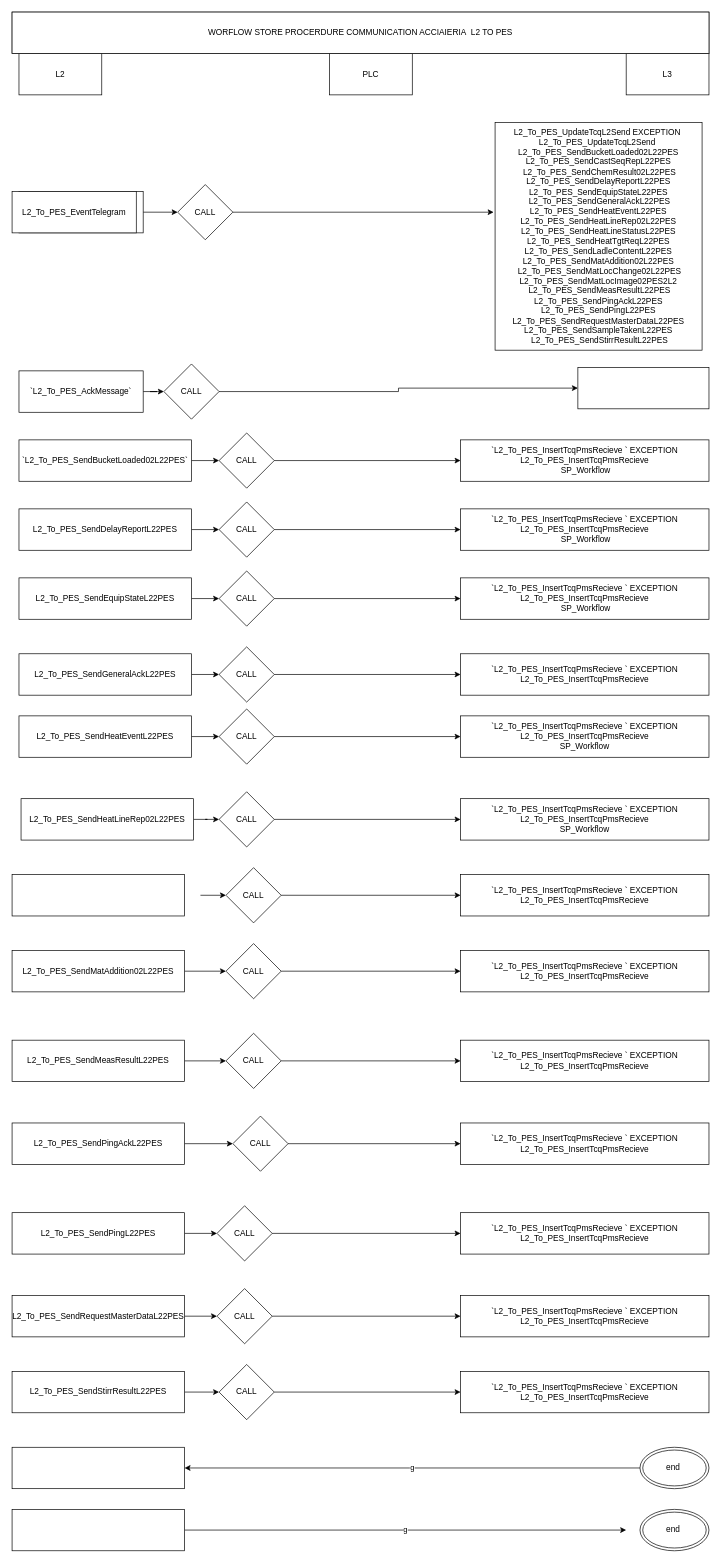
Some shapes in this 721 by 1563 pixel diagram are drawn without their labels. Each missing label, with the centre of its shape:
"`L2_To_PES_InsertTcqL2Send` L2_To_PES_InsertTcqL2Send" goes at pixel 643 388.
"L2_To_PES_InsertTcqPmsRecieve" goes at pixel 98 1530.
"L2_To_PES_SendHeatTgtReqL22PES" goes at pixel 98 895.
"L2_To_PES_UpdateTcqL2Send" goes at pixel 98 1468.
